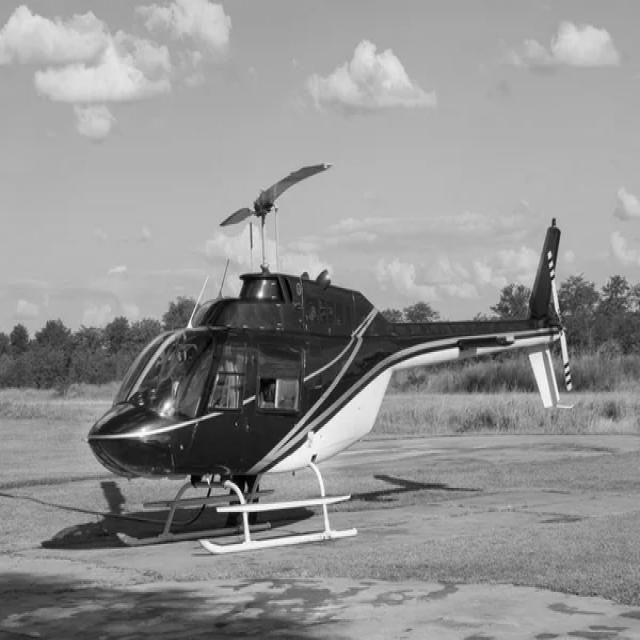Helicopter: (89, 154, 562, 555)
